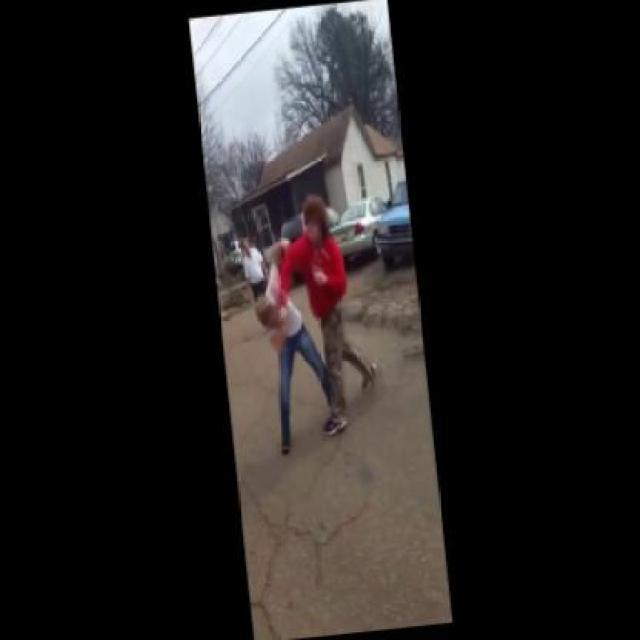fight: (245, 194, 358, 377)
non-fight: (237, 233, 270, 299)
